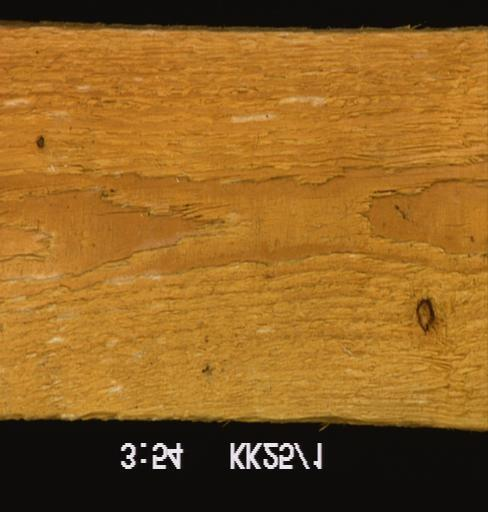dry_knot: (413, 295, 435, 335)
small_knot: (33, 133, 46, 151)
